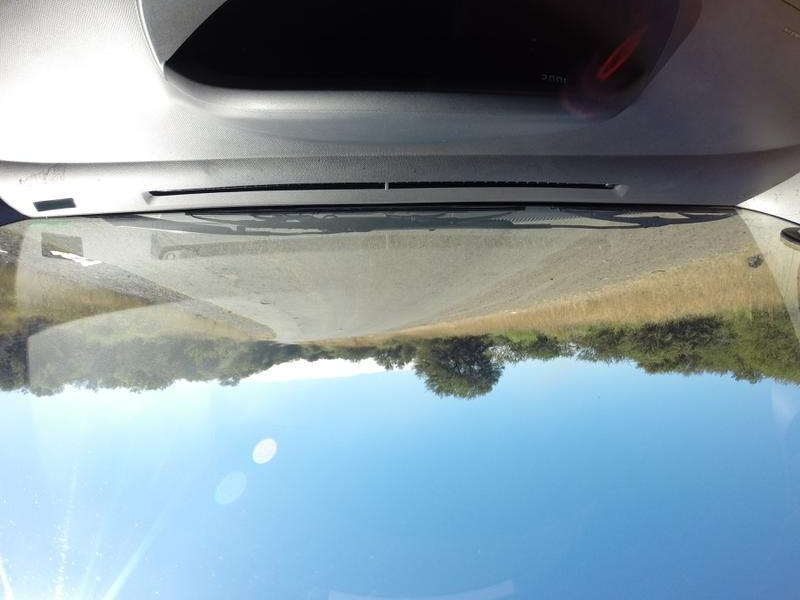pothole: (252, 295, 278, 309)
